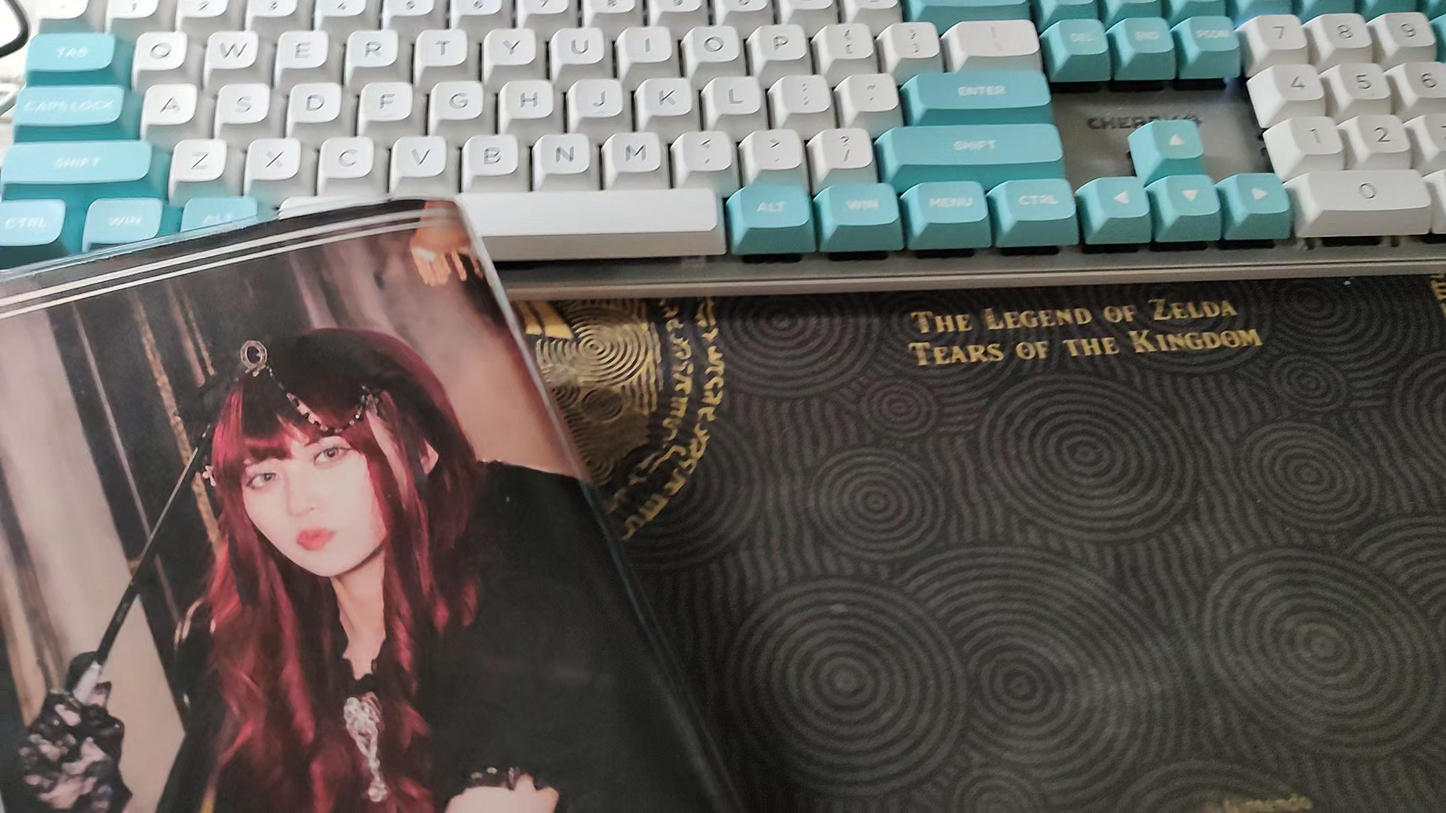Photo_book: (0, 198, 758, 813)
